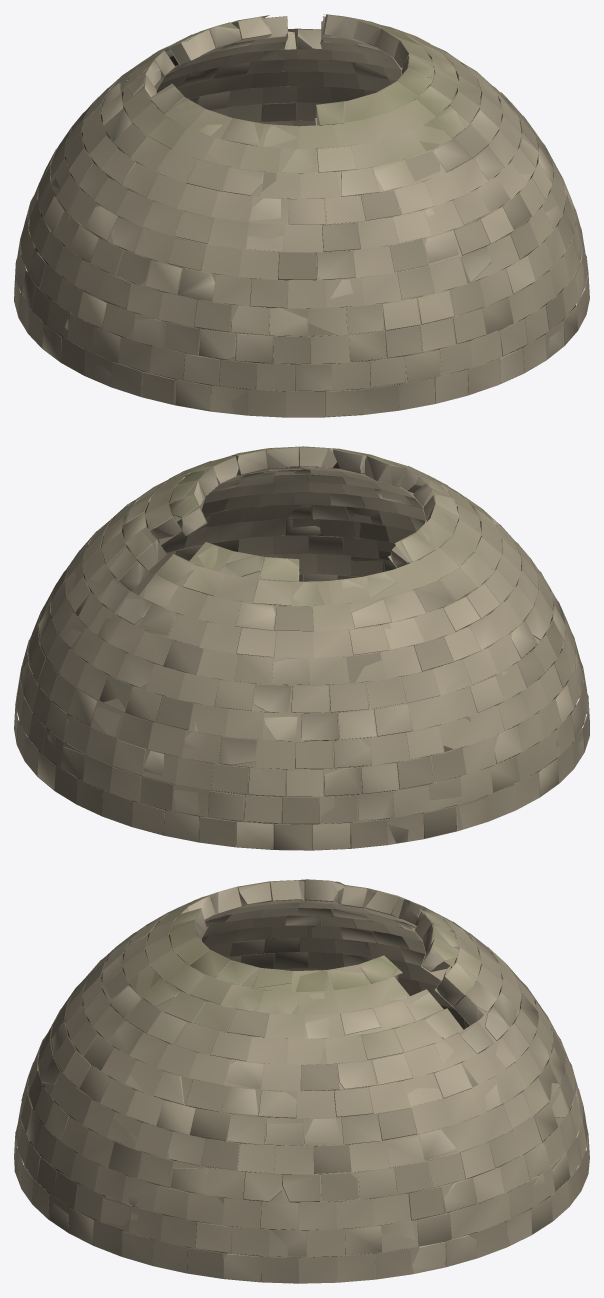
Rendered from baths_dome.glb.
3 views of the same model, one above another, from view 1: azimuth 30°, elevation 25°; view 2: azimuth 150°, elevation 25°; view 3: azimuth 270°, elevation 25° (orthographic).
Visible parts, largest first — view 1: baths_dome, baths_dome_far; view 2: baths_dome, baths_dome_far; view 3: baths_dome, baths_dome_far.
Part boxes in pixels (left/top/right/bottom): baths_dome: left=14, top=14, right=589, bottom=416; baths_dome_far: left=14, top=14, right=588, bottom=417; baths_dome: left=14, top=446, right=589, bottom=850; baths_dome_far: left=16, top=446, right=587, bottom=850; baths_dome: left=14, top=879, right=589, bottom=1283; baths_dome_far: left=15, top=879, right=587, bottom=1283.
Size of the model in its own units: 72.33 by 32.81 by 72.38.
